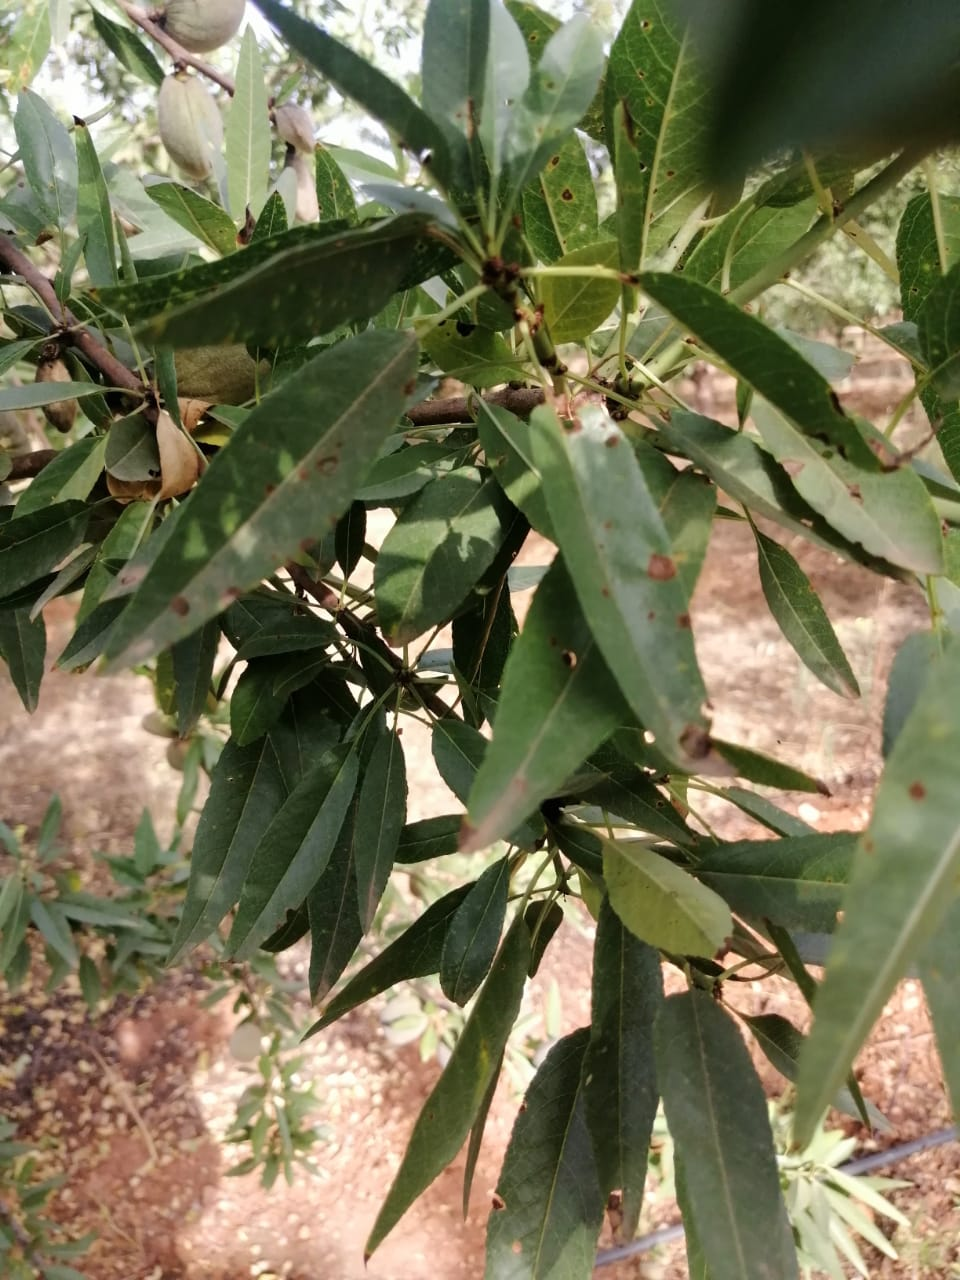coryneum: (94, 330, 425, 675), (526, 399, 709, 769), (745, 379, 945, 577)
